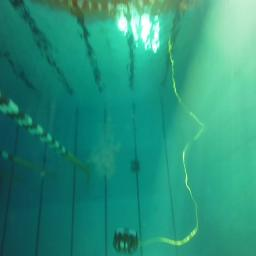Full: (130, 160, 140, 172)
front: (112, 226, 139, 254)
